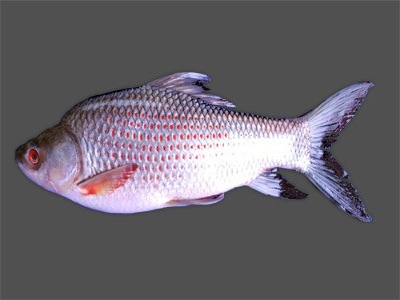rohu: (10, 65, 378, 226)
